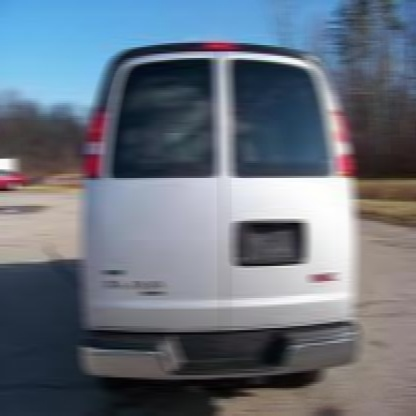Vehicle: (80, 34, 363, 394)
